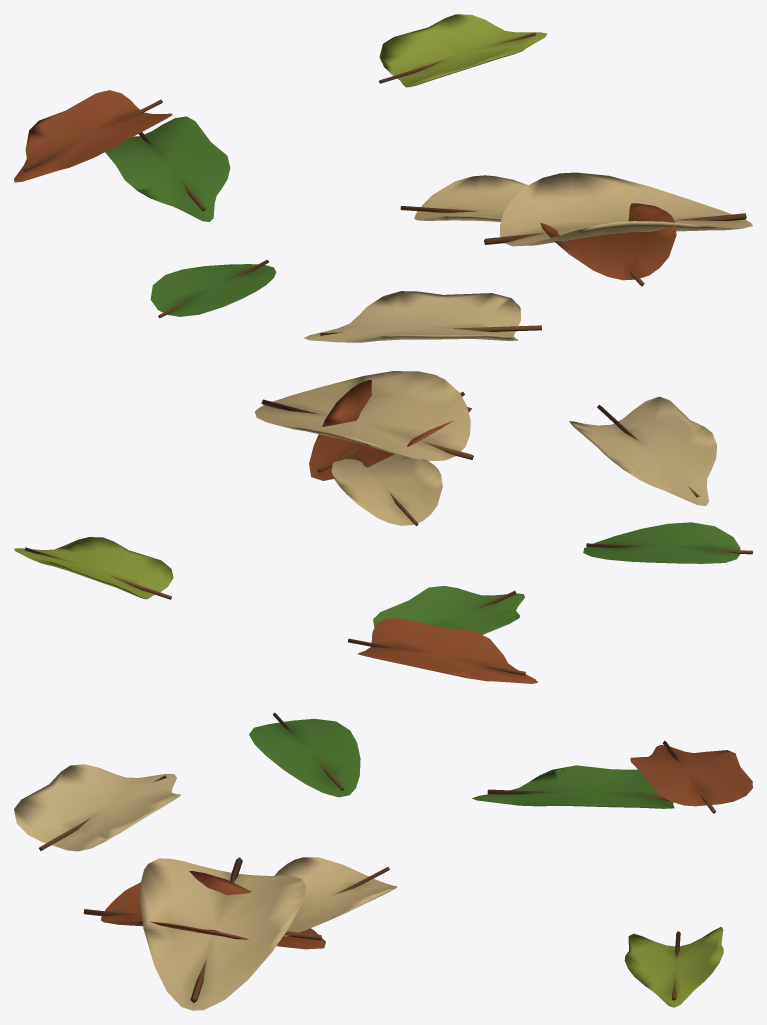
File: mire_gc_leaves_c.glb
3 views of the same model, one above another, from view 1: azimuth 30°, elevation 25°; view 2: azimuth 150°, elevation 25°; view 3: azimuth 270°, elevation 25° (orthographic). The views are drawn at different scales.
Parts seen in each view (by area): view 1: mire_gc_leaves_c; view 2: mire_gc_leaves_c; view 3: mire_gc_leaves_c.
Part boxes in pixels (<box>): mire_gc_leaves_c: <box>14,14,752,342</box>; mire_gc_leaves_c: <box>14,371,752,683</box>; mire_gc_leaves_c: <box>14,712,752,1010</box>.
Size of the model in its own units: 4.34 by 0.4053 by 4.57.
